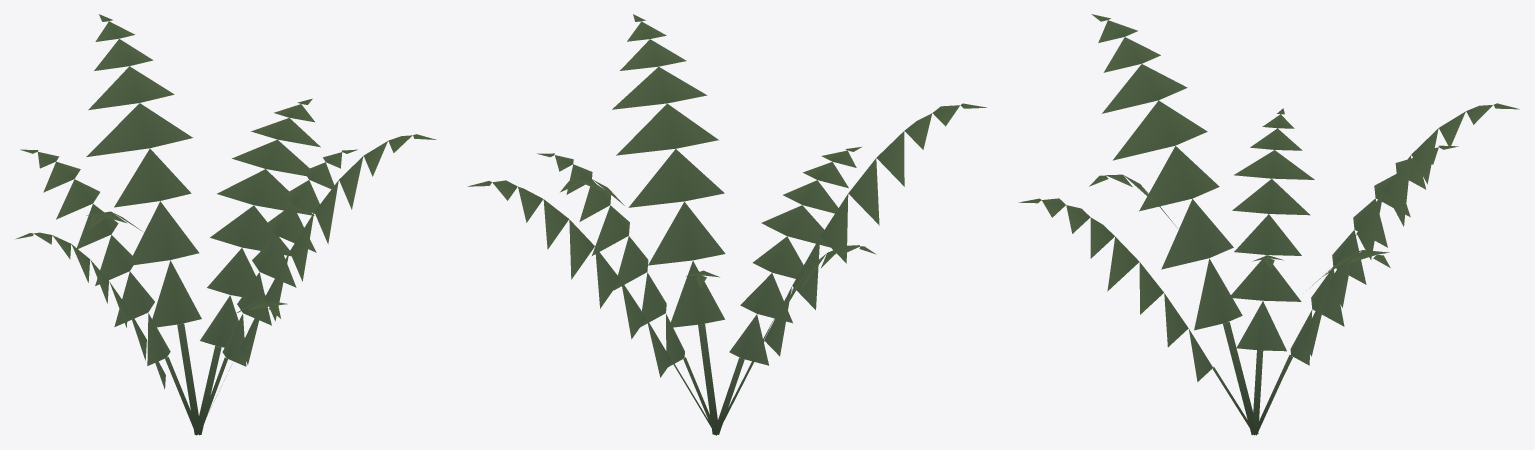
File: farn_klein.glb
The picture shows the model from 3 angles, left to right: view 1: azimuth 30°, elevation 25°; view 2: azimuth 150°, elevation 25°; view 3: azimuth 270°, elevation 25°; orthographic projection. The views are drawn at different scales.
Visible parts, largest first — view 1: farn_klein; view 2: farn_klein; view 3: farn_klein.
Boxes of the visible parts, x1,y1,x2,y2 form: farn_klein: (15, 14, 436, 435); farn_klein: (467, 14, 986, 435); farn_klein: (1018, 14, 1519, 435).
Bounding box in the file's own units: 0.5326 × 0.45 × 0.601.
